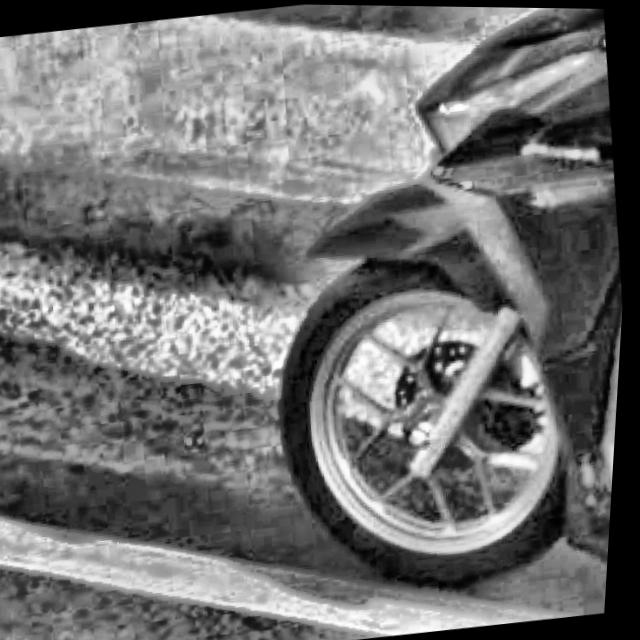motorcycle: (218, 3, 640, 640)
